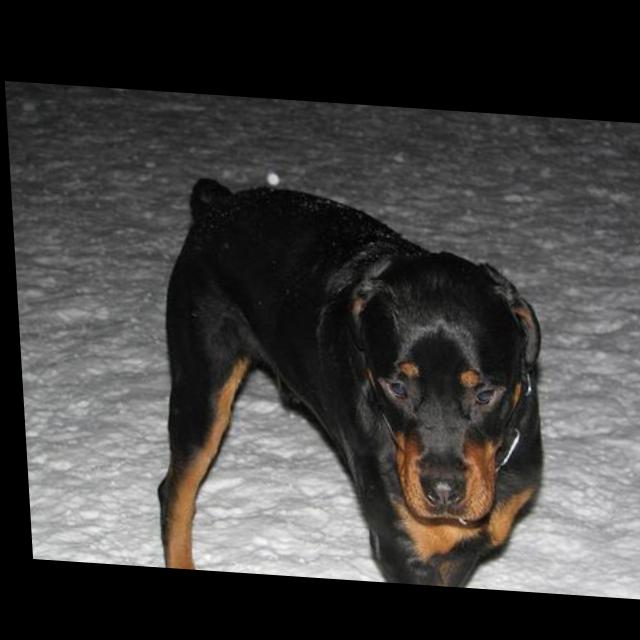rottweiler: (118, 169, 552, 588)
